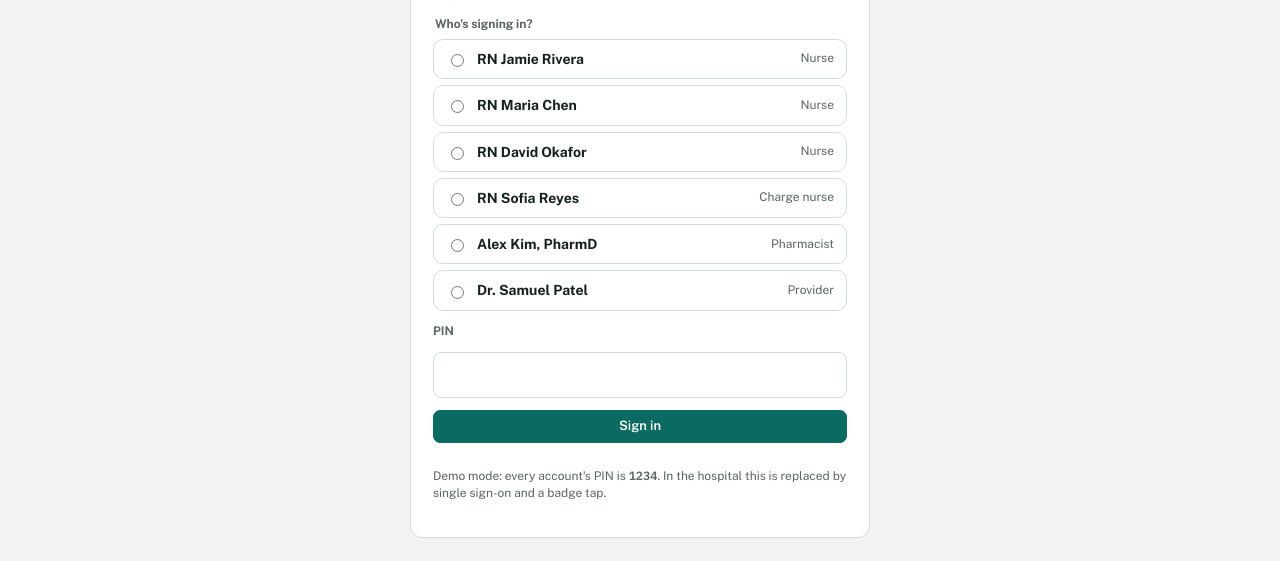
Roles › a nurse can check but not order a medication
The image size is (1280, 561).
Click the radio button labelled "RN Jamie Rivera Nurse".
click(458, 61)  # box [451, 54, 464, 67]
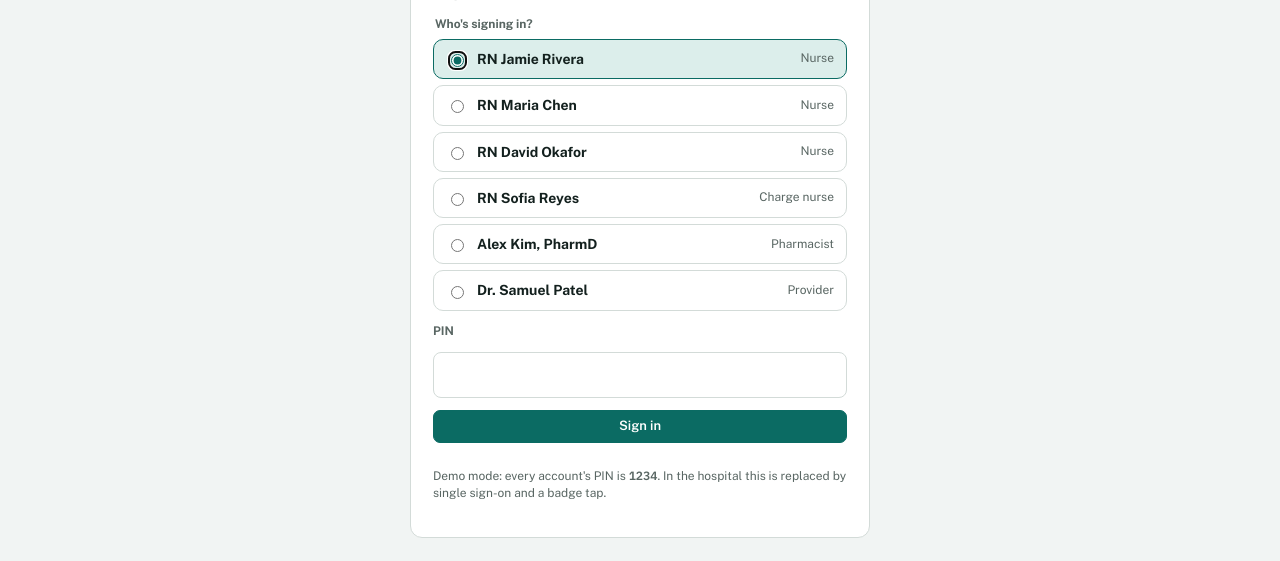
Type "1234" into the password field labelled "PIN".
click(640, 375); type("1234")  # box [433, 352, 847, 398]
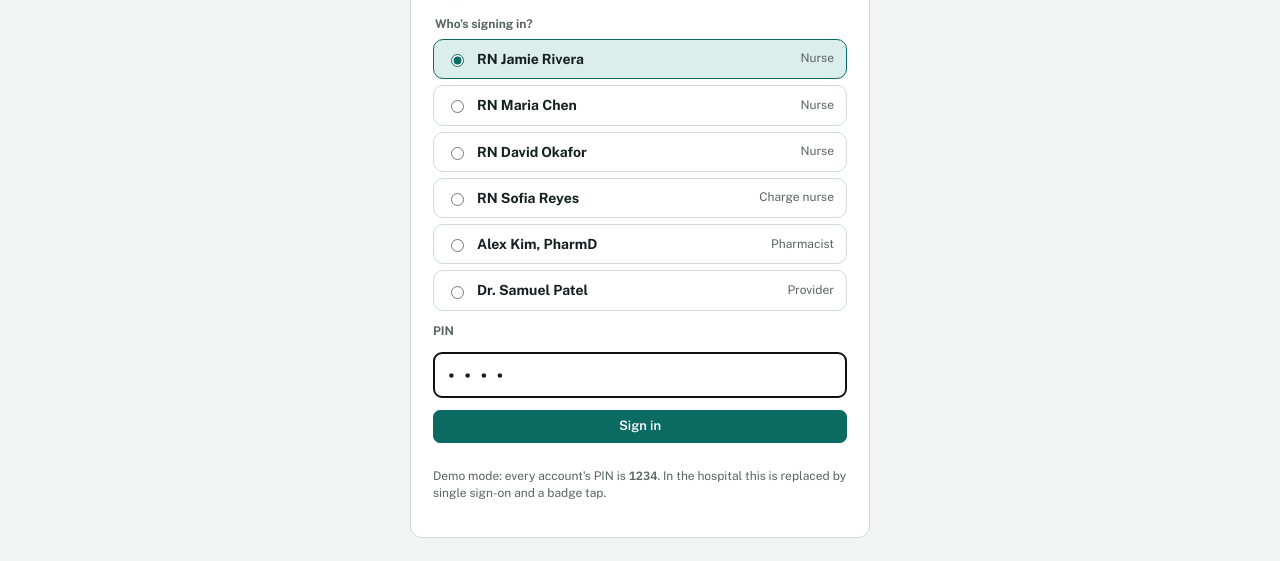
Click the button "Sign in".
click(640, 427)  # box [433, 410, 847, 443]
(page scrolled)
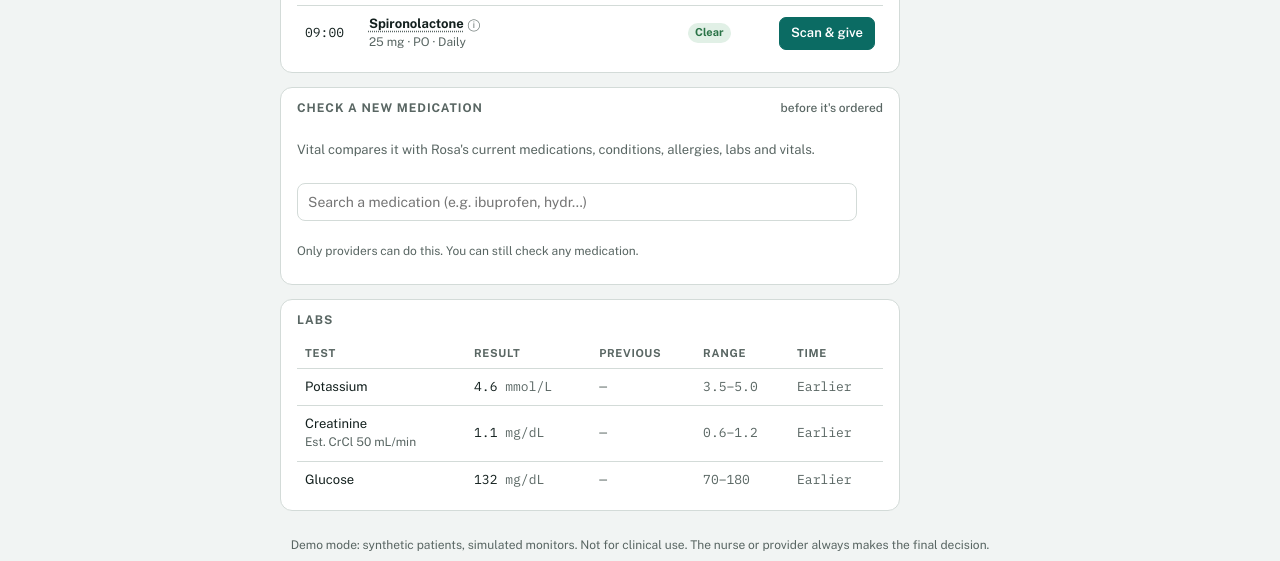
Type "acetamin" into the dropdown labelled "Search a medication".
click(577, 202); type("acetamin")  # box [297, 182, 857, 221]
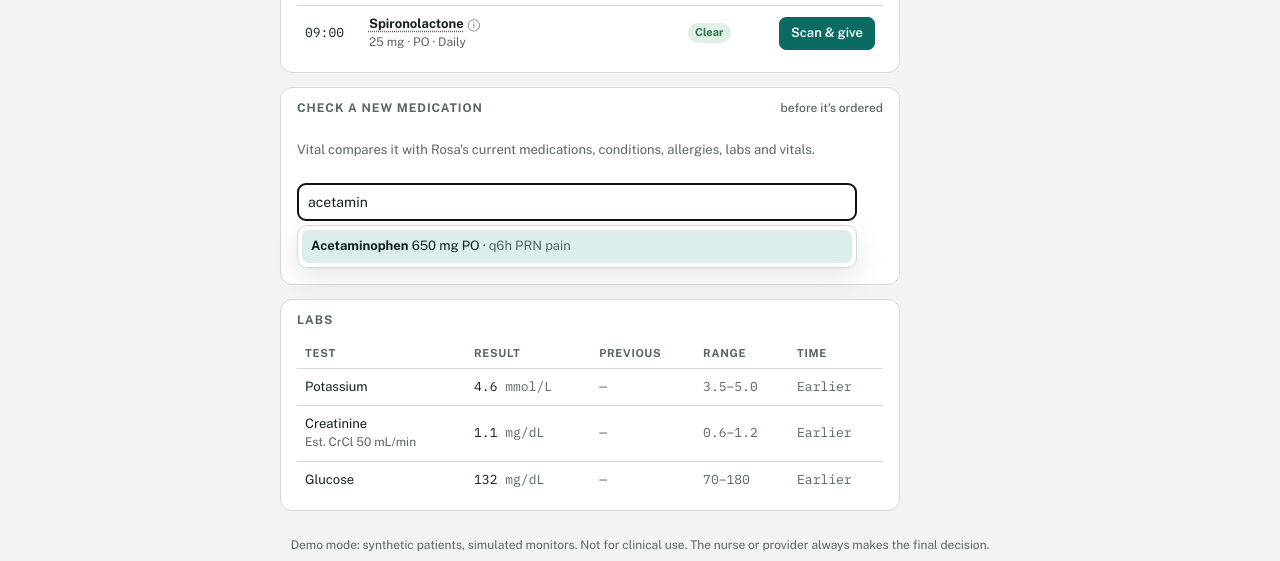
Click the option "Acetaminophen 650 mg PO · q6h PRN pain".
click(360, 245)  # box [302, 230, 852, 263]
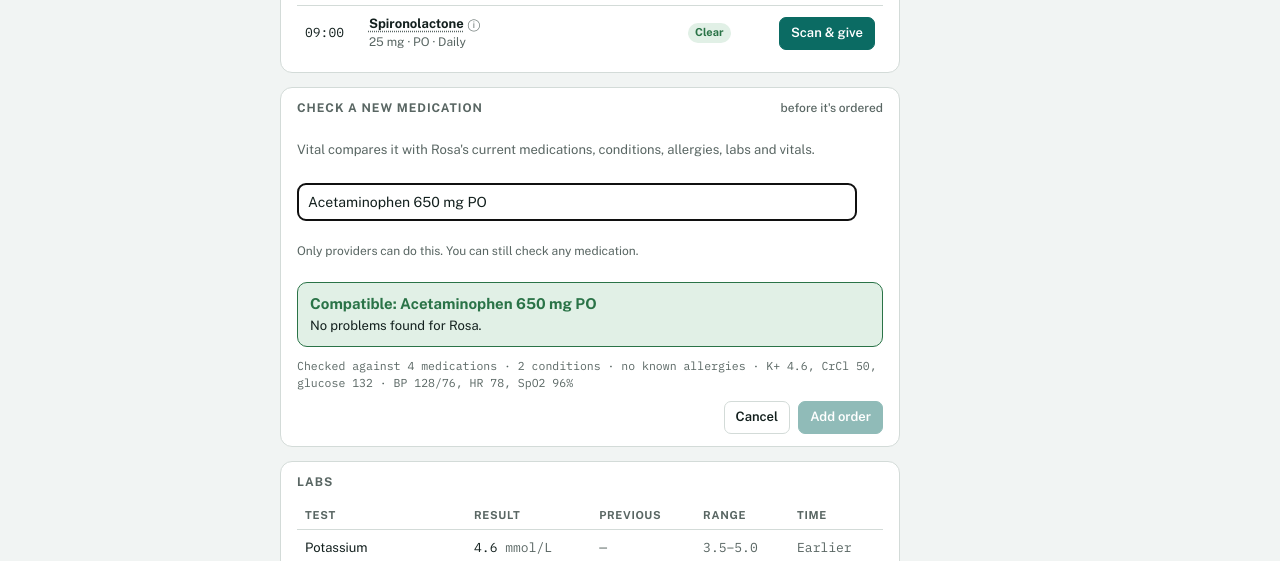
Result: the text "Compatible: Acetaminophen 650 mg PO" is shown at [310, 295, 596, 312]
Result: the button "Add order" is disabled at [798, 401, 883, 434]
